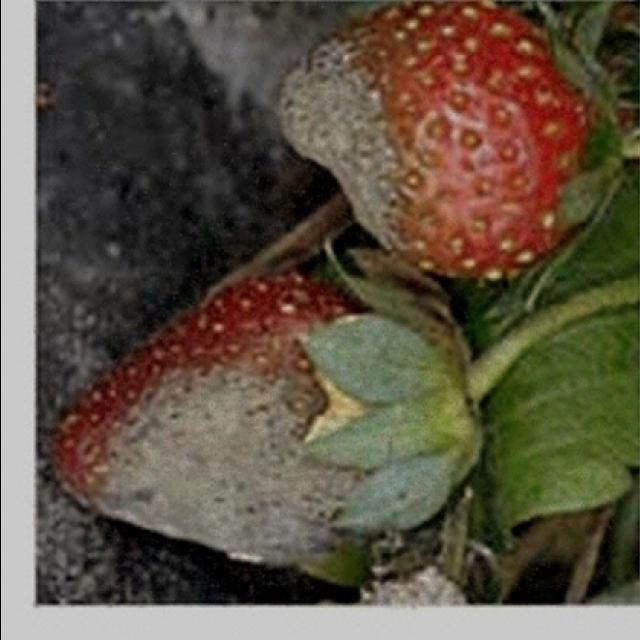Gray Mold: (49, 279, 377, 570), (271, 15, 432, 270)
